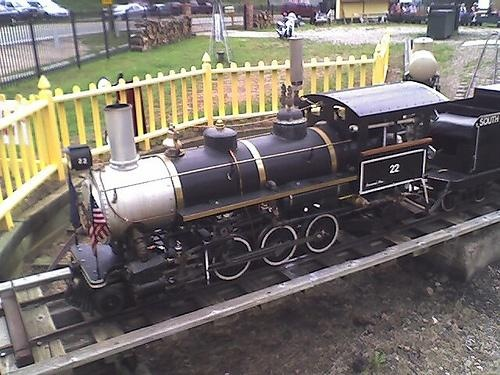car: (2, 1, 40, 21), (33, 1, 71, 20)
train: (54, 67, 500, 318)
